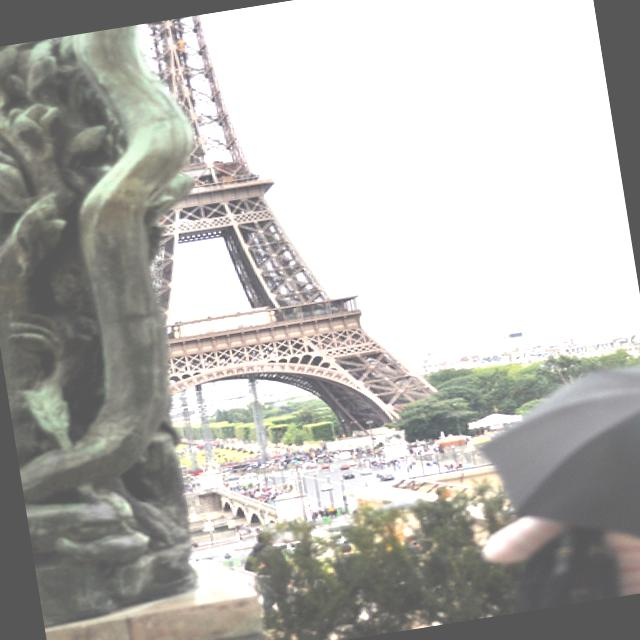Vehicle: (240, 457, 326, 558), (380, 472, 396, 482), (280, 458, 298, 466), (321, 482, 334, 492), (364, 479, 378, 487), (343, 472, 355, 481), (306, 462, 319, 469), (377, 470, 388, 478), (320, 462, 330, 470), (362, 468, 372, 476), (347, 460, 357, 468), (190, 540, 199, 548), (340, 464, 350, 471), (426, 462, 434, 468)
